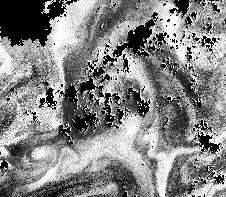CE: (22, 138, 63, 172)
